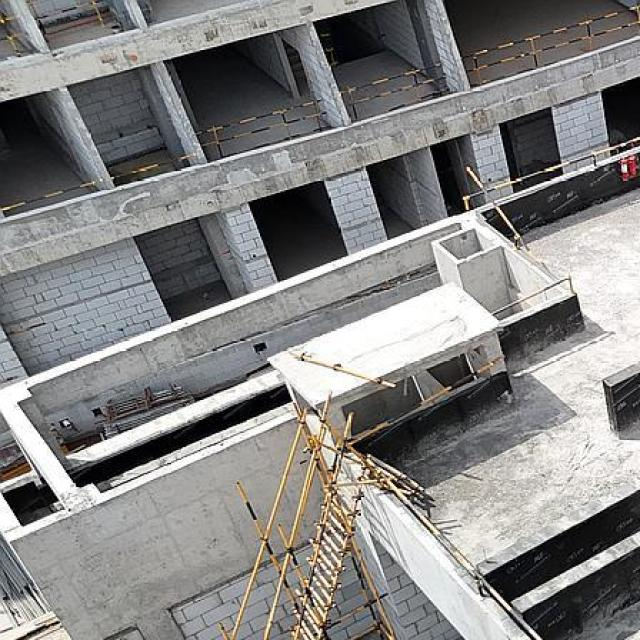edge_guardrail: (365, 457, 544, 640), (461, 5, 640, 89), (346, 356, 507, 445), (463, 135, 640, 211), (195, 98, 332, 162), (464, 165, 540, 262), (341, 62, 450, 124), (491, 275, 574, 316), (1, 179, 96, 212), (34, 0, 106, 36), (109, 152, 195, 181), (0, 12, 21, 57)
